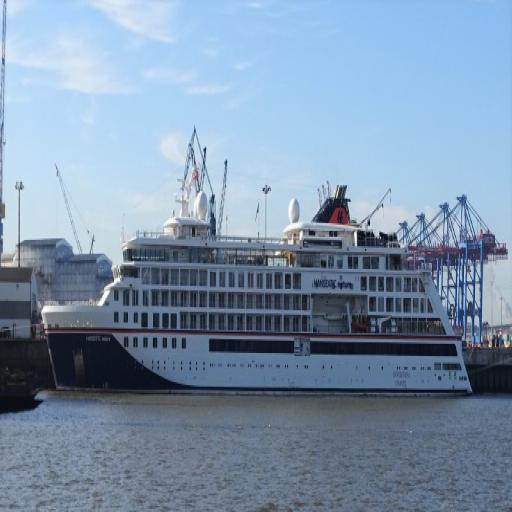cruises: (39, 158, 480, 409)
